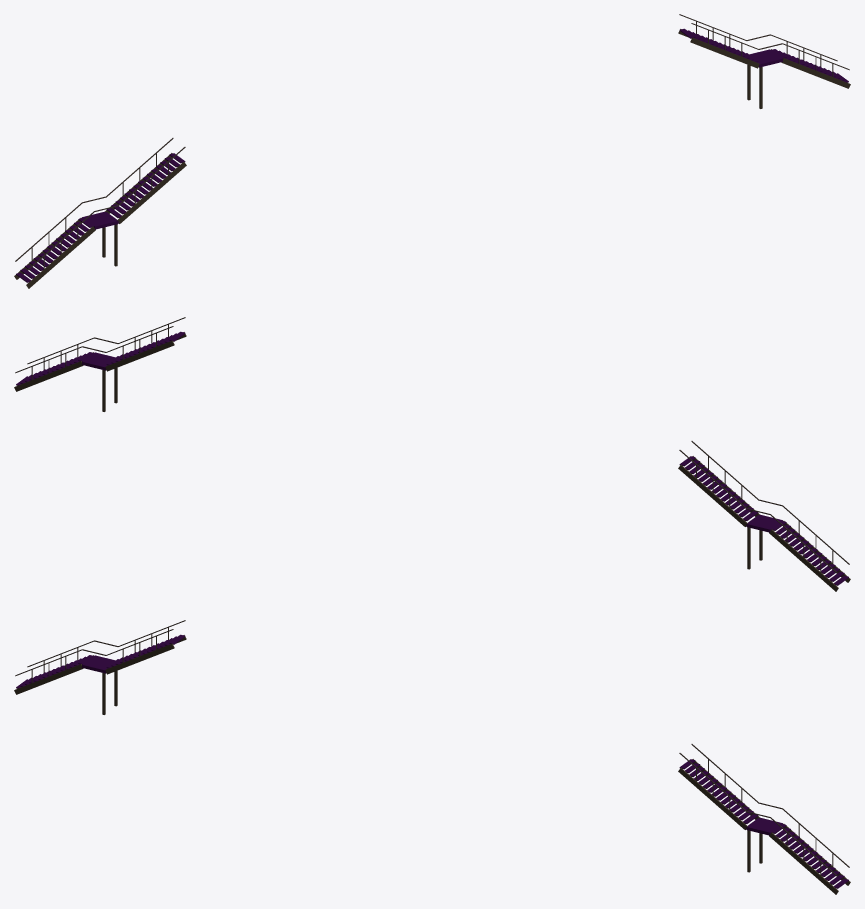
Rendered from monorail_deck_stairs.glb.
3 views of the same model, one above another, from view 1: azimuth 30°, elevation 25°; view 2: azimuth 150°, elevation 25°; view 3: azimuth 330°, elevation 25° (orthographic).
Parts seen in each view (by area): view 1: monorail_deck_stairs; view 2: monorail_deck_stairs; view 3: monorail_deck_stairs.
Part boxes in pixels (x1,y1,x2,y2): monorail_deck_stairs: (14,14,850,288); monorail_deck_stairs: (14,317,850,591); monorail_deck_stairs: (14,620,850,894).
Bounding box in the file's own units: 55.36 × 6.67 × 1.54.
